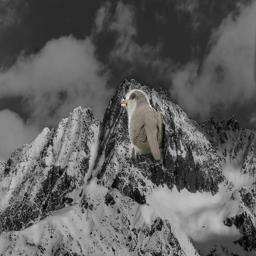Cuckoo: (121, 89, 163, 164)
